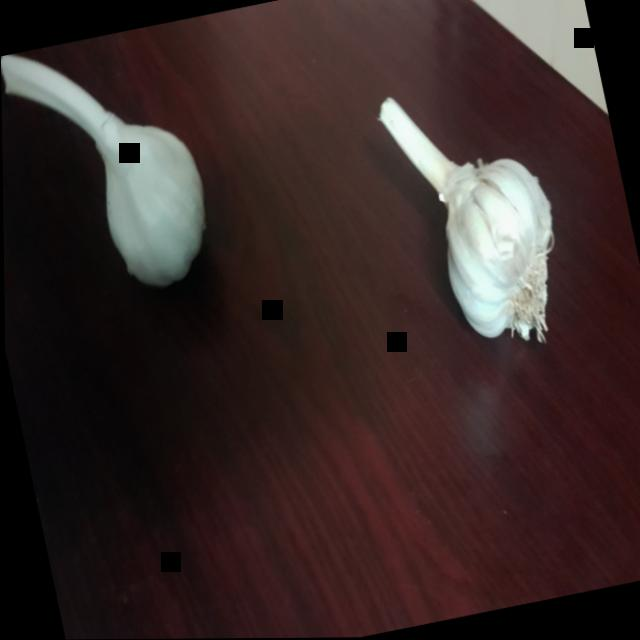garlic: (355, 54, 592, 377), (0, 20, 234, 320)
